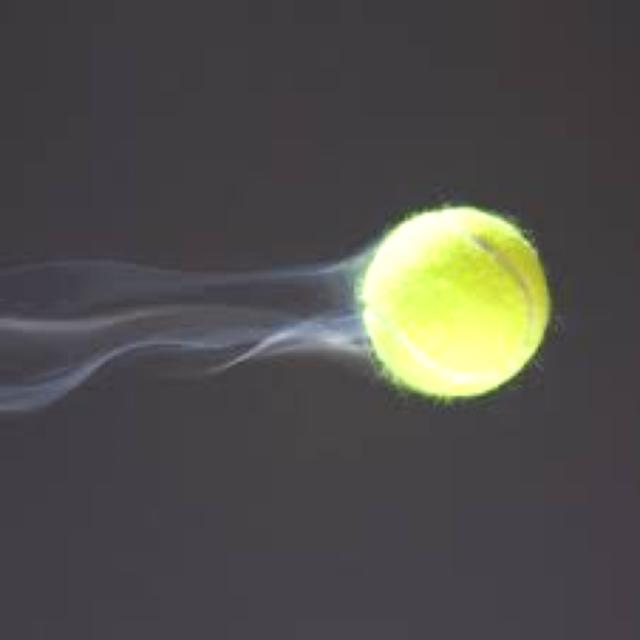tennis-ball: (364, 208, 547, 400)
